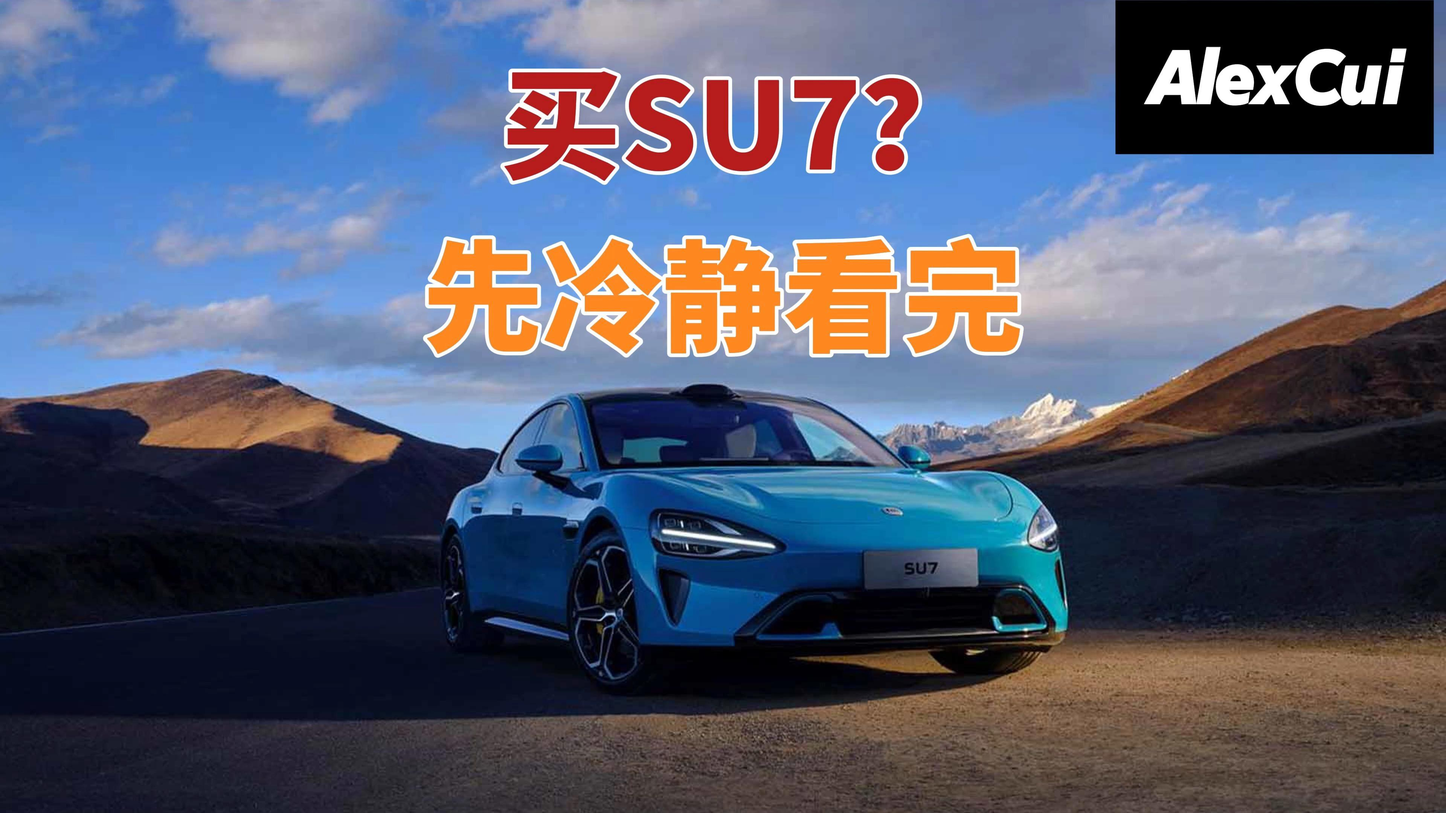su7: (440, 375, 1068, 675)
